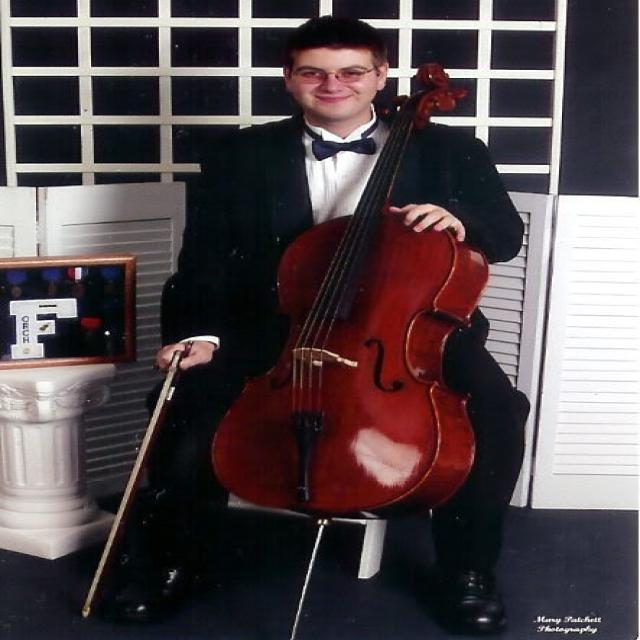cello: (192, 64, 501, 516)
